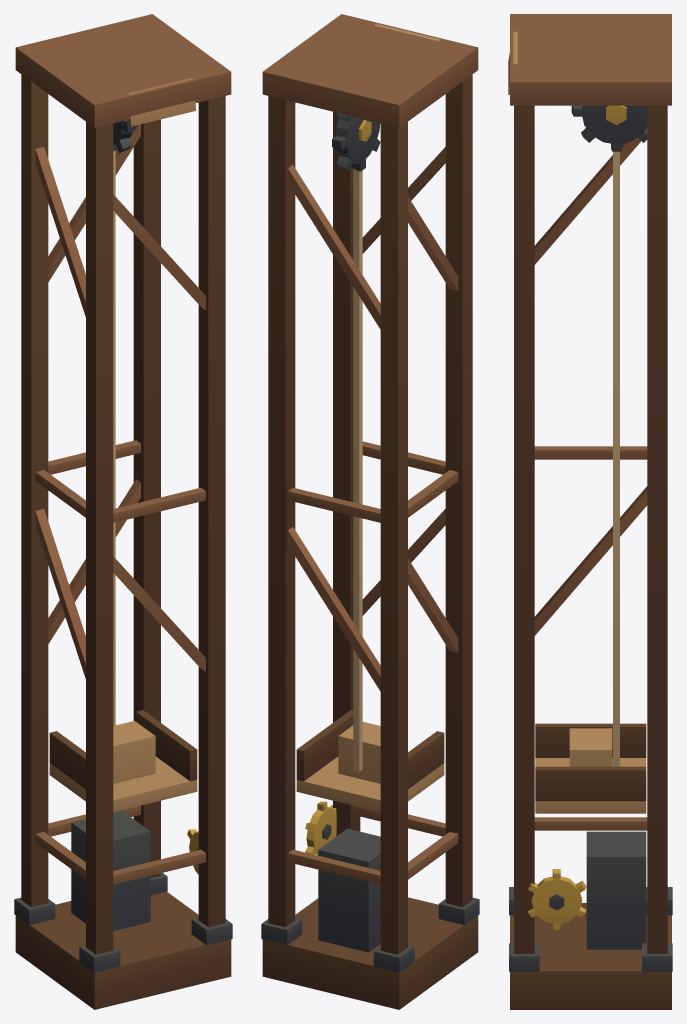
The model's file is logi_vertical_lift.glb.
3 views of the same model, side by side, from view 1: azimuth 30°, elevation 25°; view 2: azimuth 150°, elevation 25°; view 3: azimuth 270°, elevation 25° (orthographic). The views are drawn at different scales.
Parts seen in each view (by area): view 1: logi_vertical_lift; view 2: logi_vertical_lift; view 3: logi_vertical_lift.
Part boxes in pixels (<box>): logi_vertical_lift: <box>14,14,232,1009</box>; logi_vertical_lift: <box>261,14,479,1009</box>; logi_vertical_lift: <box>508,14,672,1009</box>.
Bounding box in the file's own units: 1.93 × 12.01 × 1.93.
Materials: 1 (1 with a texture image).
